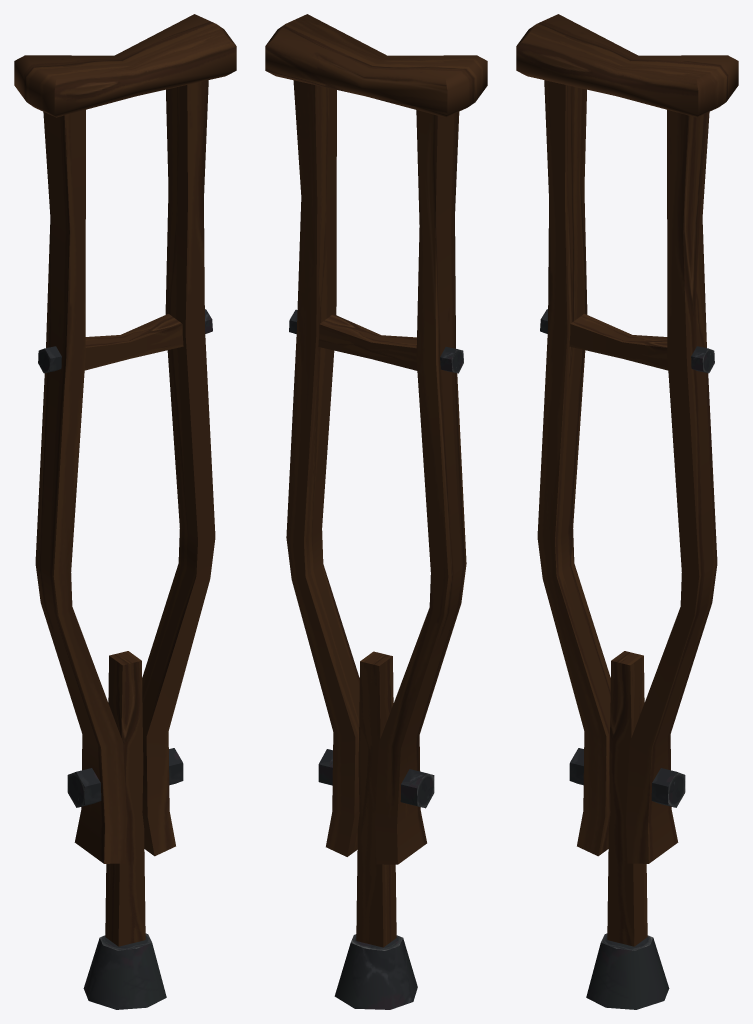
Rendered from SM_PROP_crutches_battle.fbx.
3 views of the same model, side by side, from view 1: azimuth 30°, elevation 25°; view 2: azimuth 150°, elevation 25°; view 3: azimuth 330°, elevation 25° (orthographic).
Parts seen in each view (by area): view 1: SM_PROP_crutches_battle; view 2: SM_PROP_crutches_battle; view 3: SM_PROP_crutches_battle.
Part boxes in pixels (x1=…): SM_PROP_crutches_battle: x1=14, y1=14, x2=236, y2=1009; SM_PROP_crutches_battle: x1=265, y1=14, x2=487, y2=1009; SM_PROP_crutches_battle: x1=516, y1=14, x2=738, y2=1009.
Bounding box in the file's own units: 27.66 × 126 × 10.49.
